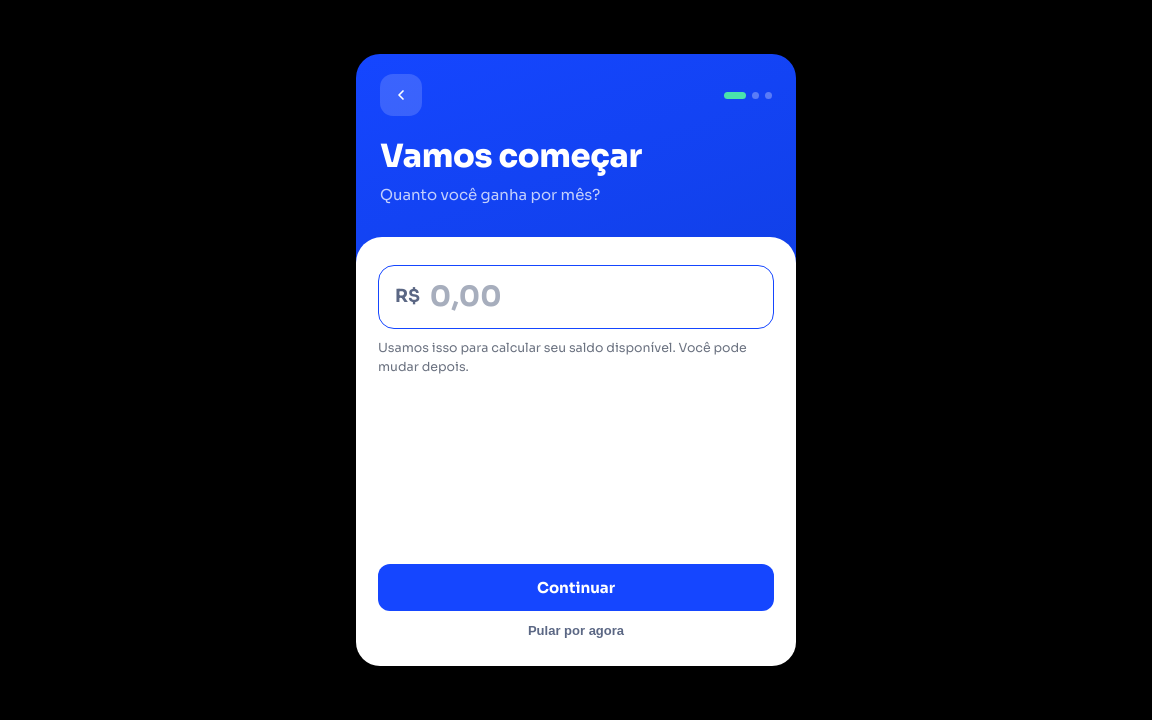
OnboardingModal — "pular" com salário digitado confirma no próprio app › o botão de voltar do passo 1 (que age como pular) também pergunta no app; Esc e o fundo cancelam
The image size is (1152, 720).
In the number field with placeholder "0,00": (593, 297) [430, 264, 757, 329], type "8500"
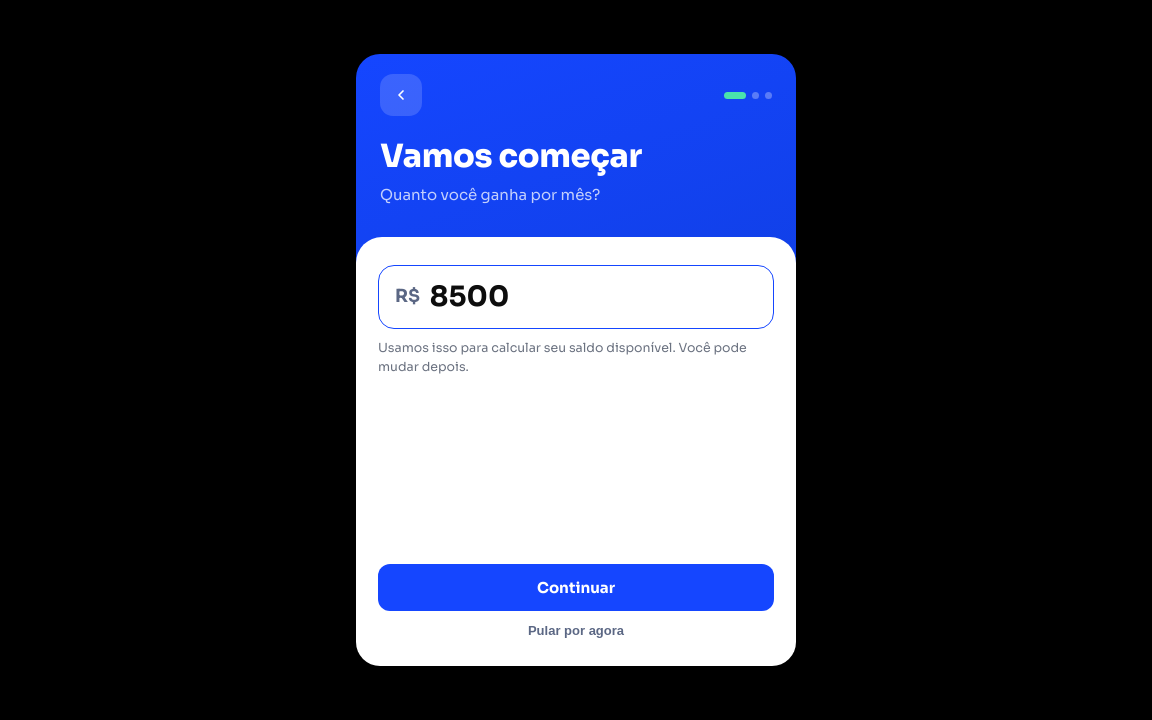
Click the button named "Voltar": (401, 95) [380, 74, 422, 116]
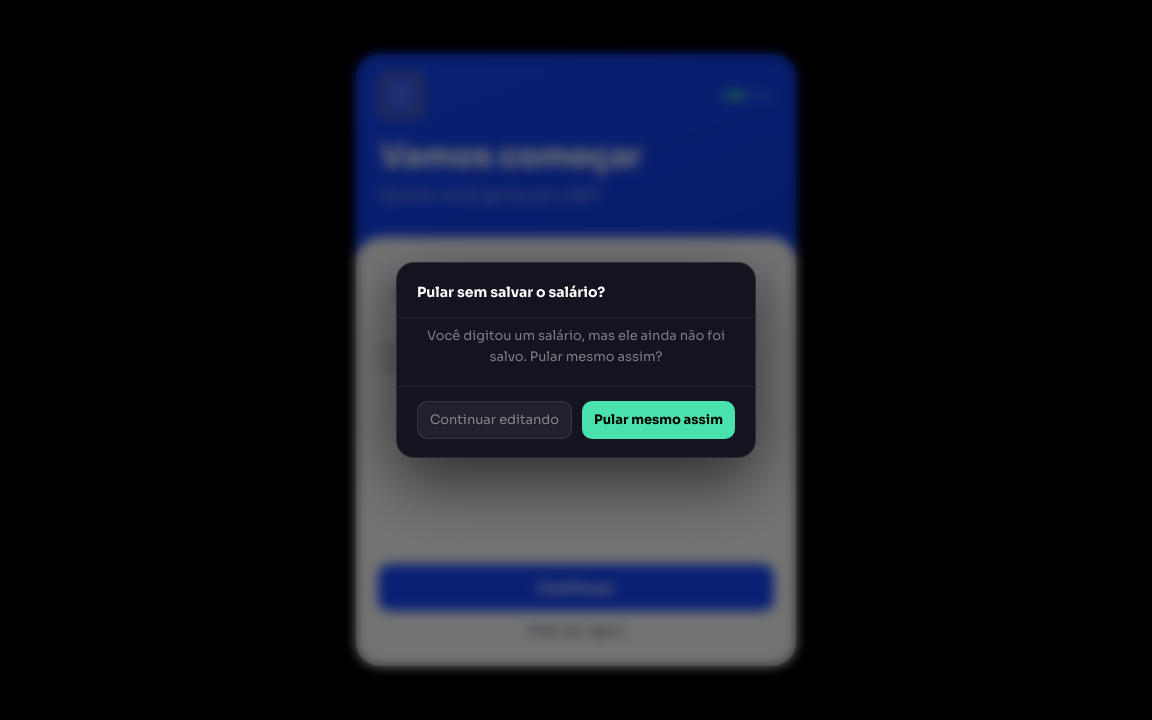
Expected: the dialog is shown, [396, 262, 756, 458]
Press Escape
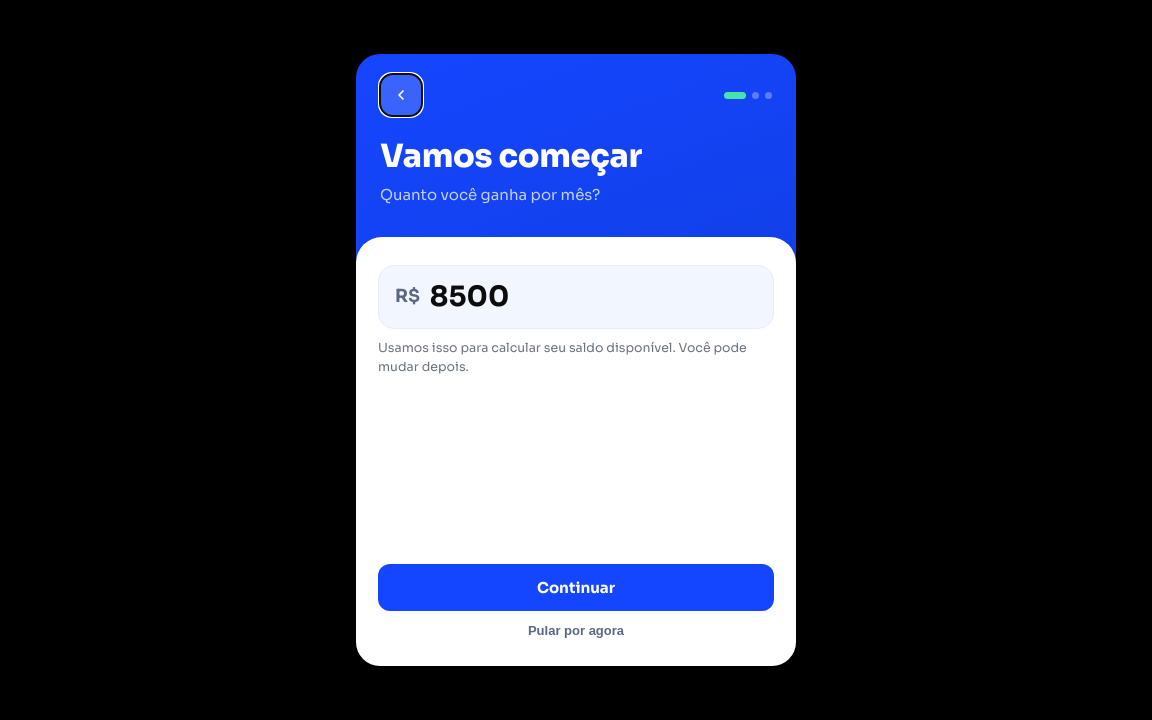
Expected: the dialog is gone
Click the button named "Voltar": (401, 95) [380, 74, 422, 116]
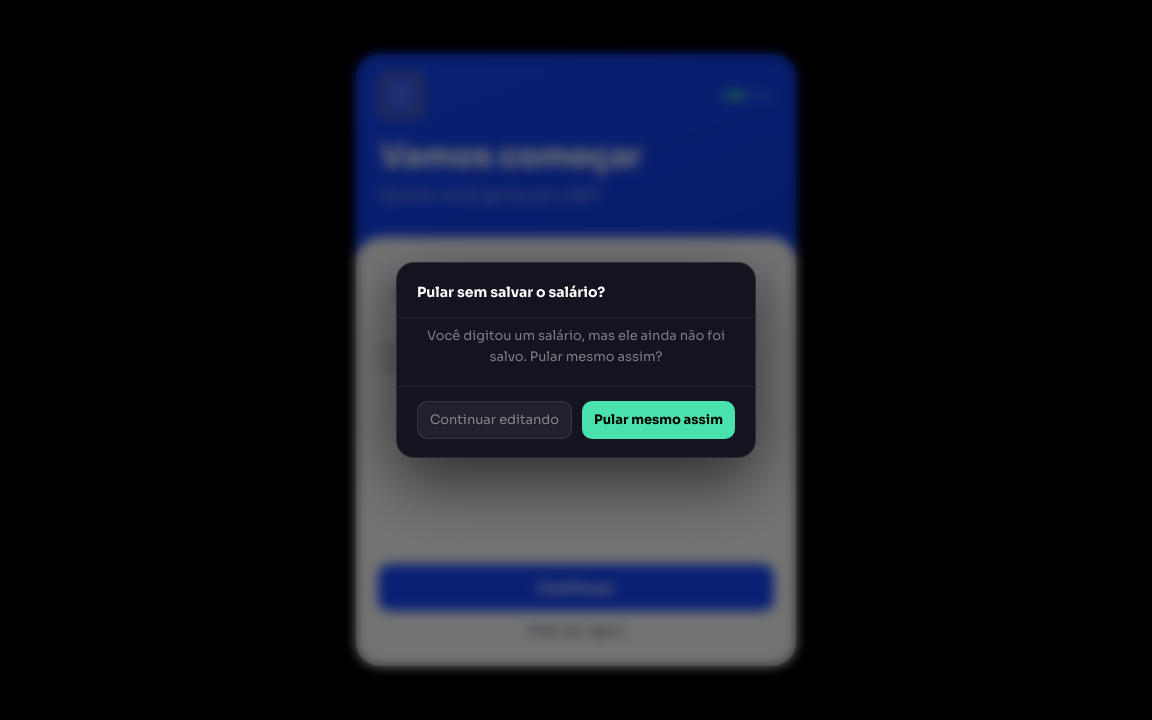
Click the element with class "gls-modal-overlay": (69, 360) [0, 0, 1151, 719]
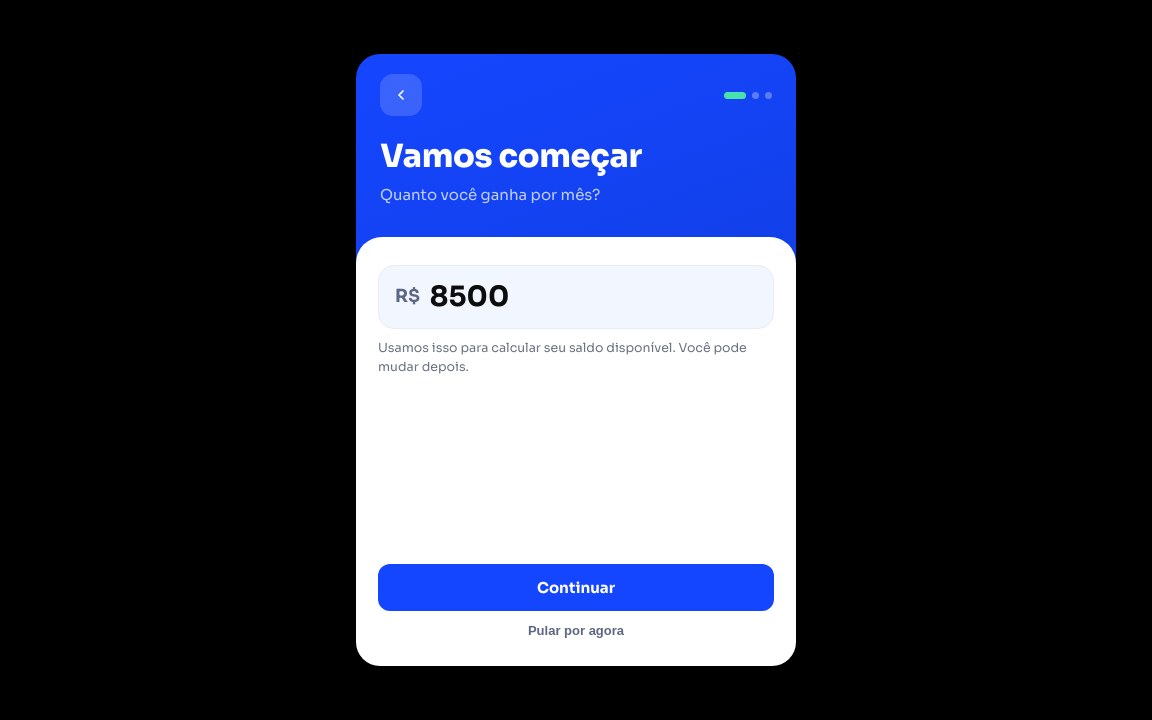
Expected: the text "Quanto você ganha por mês?" is shown, [380, 185, 600, 204]
Expected: the dialog is gone
